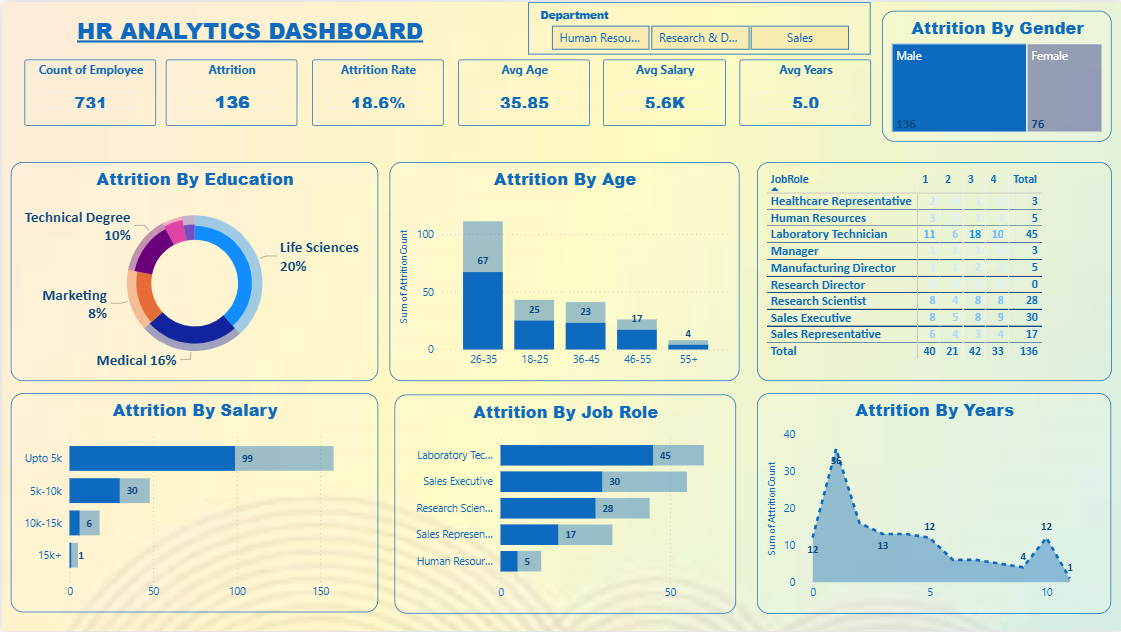

Layout of this report page (visuals, bound fields, positions):
{"tool":"powerbi","page":{"name":"Page 1","canvas":[1280,720],"ordinal":0},"visuals":[{"type":"cardVisual","title":"Count of Employee","fields":{"Data":["CountNonNull(HR_Analytics.EmpID)"]},"box":[25.7,65.7,150,75.7],"z":0},{"type":"cardVisual","title":"Avg Age","fields":{"Data":["Avg(HR_Analytics.Age)"]},"box":[521.4,65.7,150,75.7],"z":1000},{"type":"cardVisual","title":"Attrition Rate","fields":{"Data":["HR_Analytics.AttritionRate"]},"box":[354.3,65.7,150,75.7],"z":2000},{"type":"cardVisual","title":"Attrition","fields":{"Data":["Sum(HR_Analytics.AttritionCount)"]},"box":[187.1,65.7,150,75.7],"z":3000},{"type":"cardVisual","title":"Avg Years","fields":{"Data":["Avg(HR_Analytics.YearsAtCompany)"]},"box":[842.9,65.7,150,75.7],"z":4000},{"type":"cardVisual","title":"Avg Salary","fields":{"Data":["Avg(HR_Analytics.MonthlyIncome)"]},"box":[687.1,65.7,140,75.7],"z":5000},{"type":"donutChart","title":"Attrition By Education","fields":{"Category":["HR_Analytics.EducationField"],"Y":["Sum(HR_Analytics.AttritionCount)"]},"box":[10,183.3,420,250],"z":6000},{"type":"columnChart","title":"Attrition By Age","fields":{"Y":["Sum(HR_Analytics.AttritionCount)"],"Category":["HR_Analytics.AgeGroup"]},"box":[443.3,183.3,400,250],"z":7000},{"type":"pivotTable","fields":{"Rows":["HR_Analytics.JobRole"],"Columns":["HR_Analytics.JobSatisfaction"],"Values":["Sum(HR_Analytics.AttritionCount)"]},"box":[862.9,182.9,405.7,250],"z":8000},{"type":"barChart","title":"Attrition By Salary","fields":{"Category":["HR_Analytics.SalarySlab"],"Y":["Sum(HR_Analytics.AttritionCount)"]},"box":[10,447.1,420,250],"z":9000},{"type":"barChart","title":"Attrition By Job Role","fields":{"Category":["HR_Analytics.JobRole"],"Y":["Sum(HR_Analytics.AttritionCount)"]},"box":[448.6,448.6,390,250],"z":10000},{"type":"areaChart","title":"Attrition By Years","fields":{"Category":["HR_Analytics.YearsAtCompany"],"Y":["Sum(HR_Analytics.AttritionCount)"]},"box":[863.3,446.7,405,251.7],"z":11000},{"type":"treemap","title":"Attrition By Gender","fields":{"Group":["HR_Analytics.Gender"],"Values":["Sum(HR_Analytics.AttritionCount)"]},"box":[1006.1,9.8,262.6,149.7],"z":12000},{"type":"slicer","fields":{"Values":["HR_Analytics.Department"]},"box":[601.4,0,391.4,60],"z":13000},{"type":"textbox","title":"HR ANALYTICS DASHBOARD","box":[25.7,14.3,515.7,35],"z":14000}]}

Visuals, with their boxes in screenshot pixels (x1, y1, x2, y2), scaled from the page's 1280x720 canvas onto the 1121x632 screenshot:
"Count of Employee" cardVisual: x1=23 y1=58 x2=154 y2=124
"Avg Age" cardVisual: x1=457 y1=58 x2=588 y2=124
"Attrition Rate" cardVisual: x1=310 y1=58 x2=442 y2=124
"Attrition" cardVisual: x1=164 y1=58 x2=295 y2=124
"Avg Years" cardVisual: x1=738 y1=58 x2=870 y2=124
"Avg Salary" cardVisual: x1=602 y1=58 x2=724 y2=124
"Attrition By Education" donutChart: x1=9 y1=161 x2=377 y2=380
"Attrition By Age" columnChart: x1=388 y1=161 x2=739 y2=380
pivotTable - HR_Analytics.JobRole x HR_Analytics.JobSatisfaction: x1=756 y1=161 x2=1111 y2=380
"Attrition By Salary" barChart: x1=9 y1=392 x2=377 y2=612
"Attrition By Job Role" barChart: x1=393 y1=394 x2=734 y2=613
"Attrition By Years" areaChart: x1=756 y1=392 x2=1111 y2=613
"Attrition By Gender" treemap: x1=881 y1=9 x2=1111 y2=140
slicer - HR_Analytics.Department: x1=527 y1=0 x2=869 y2=53
"HR ANALYTICS DASHBOARD" textbox: x1=23 y1=13 x2=474 y2=43
